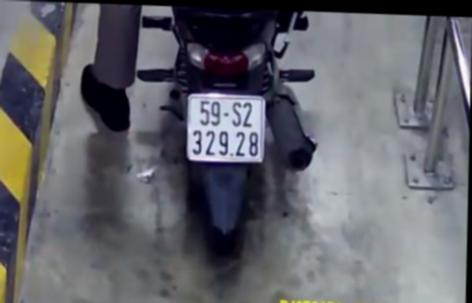License_Plate: (180, 87, 271, 177)
